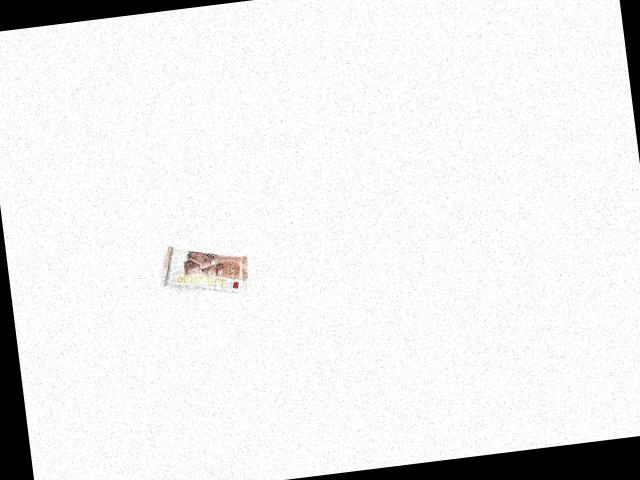chocolate: (163, 230, 252, 307)
